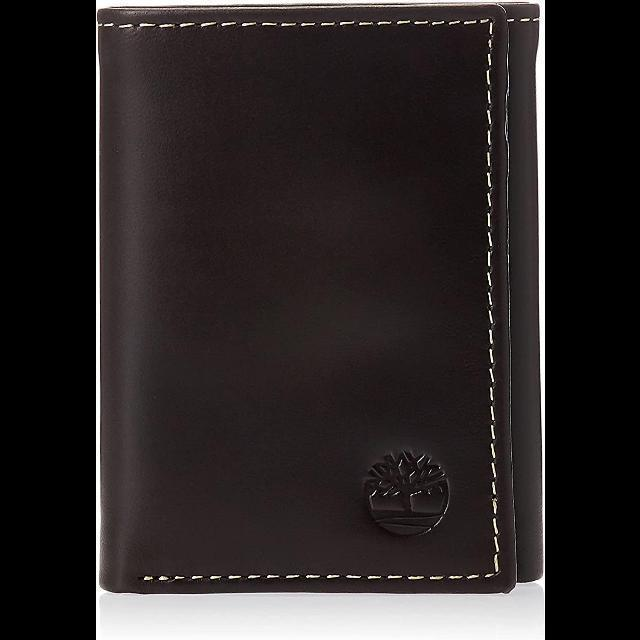wallet: (96, 1, 540, 596)
